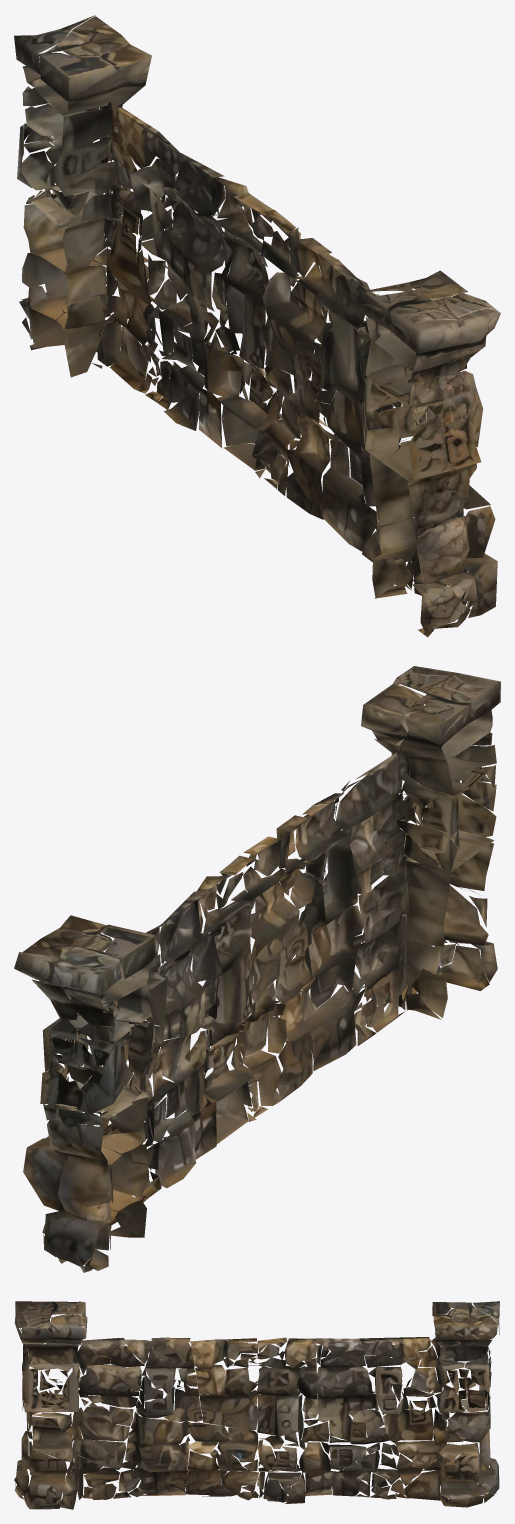
The model's file is arch_wall_vaelor_LOD2.glb.
3 renders of one model, top to bottom at view 1: azimuth 30°, elevation 25°; view 2: azimuth 150°, elevation 25°; view 3: azimuth 270°, elevation 25°, orthographic. The views are drawn at different scales.
Parts seen in each view (by area): view 1: tripo_node_d9f77c95-5727-4263-9154-96b5edb6edef; view 2: tripo_node_d9f77c95-5727-4263-9154-96b5edb6edef; view 3: tripo_node_d9f77c95-5727-4263-9154-96b5edb6edef.
Boxes of the visible parts, x1,y1,x2,y2 form: tripo_node_d9f77c95-5727-4263-9154-96b5edb6edef: (14, 15, 500, 637); tripo_node_d9f77c95-5727-4263-9154-96b5edb6edef: (14, 666, 500, 1272); tripo_node_d9f77c95-5727-4263-9154-96b5edb6edef: (14, 1301, 499, 1509).
Size of the model in its own units: 0.1485 by 0.4219 by 1.
Materials: 1 (1 with a texture image).
